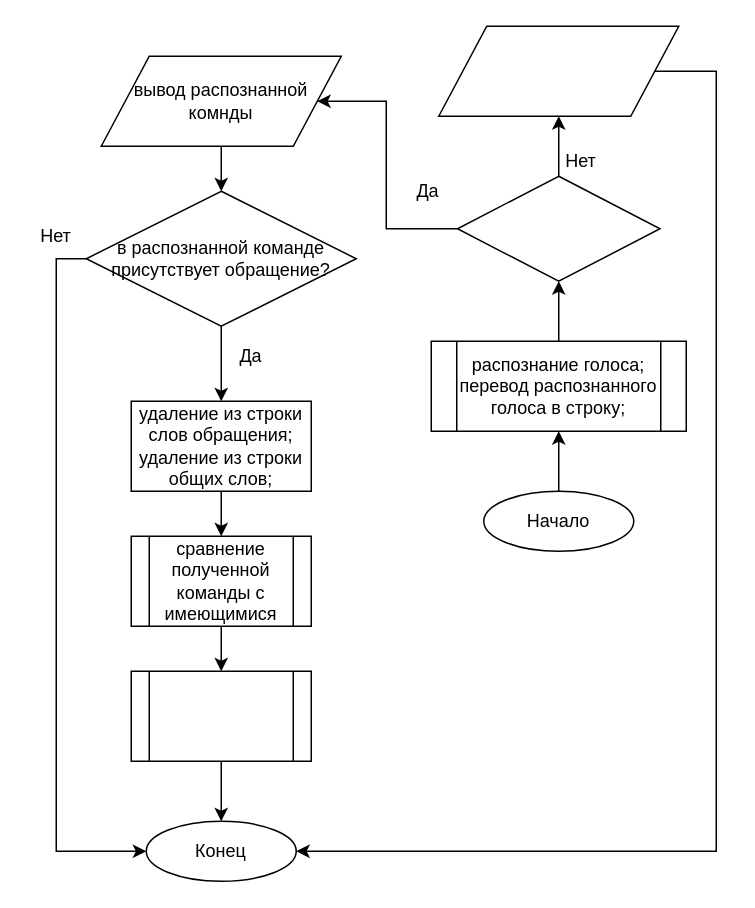
Some shapes in this 755 by 908 pixel diagram are drawn without their labels. The shapes that lost their labels are listed below. From the top down, each one's centre as x and y in pixels, then its label:
(558,70): вывод сообщения об ошибке
(558,228): голос распознан успешно?
(220,715): выполнение соотвествующих команде действий
